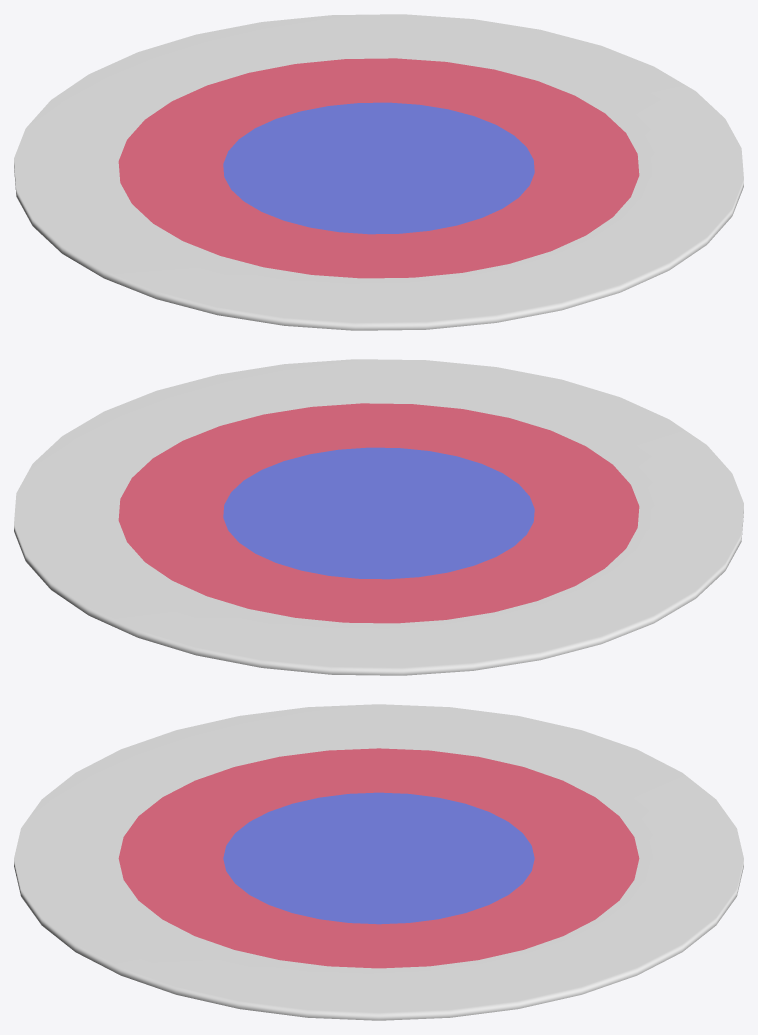
The model's file is rug.fbx.
3 views of the same model, one above another, from view 1: azimuth 30°, elevation 25°; view 2: azimuth 150°, elevation 25°; view 3: azimuth 270°, elevation 25° (orthographic).
Parts seen in each view (by area): view 1: rug; view 2: rug; view 3: rug.
Part boxes in pixels (left/top/right/bottom): rug: left=14, top=14, right=743, bottom=330; rug: left=14, top=359, right=743, bottom=675; rug: left=14, top=704, right=743, bottom=1020.
Size of the model in its own units: 417 by 5.1 by 417.
